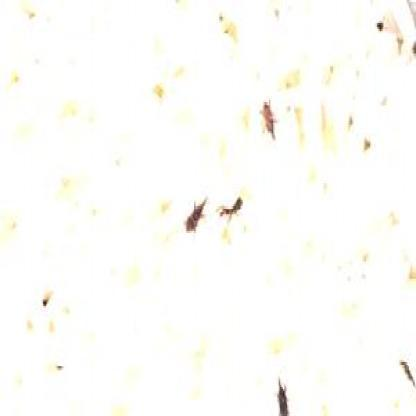rice-bug: (182, 195, 209, 234), (220, 187, 243, 224), (260, 96, 278, 141), (276, 372, 291, 416), (400, 358, 414, 388)
